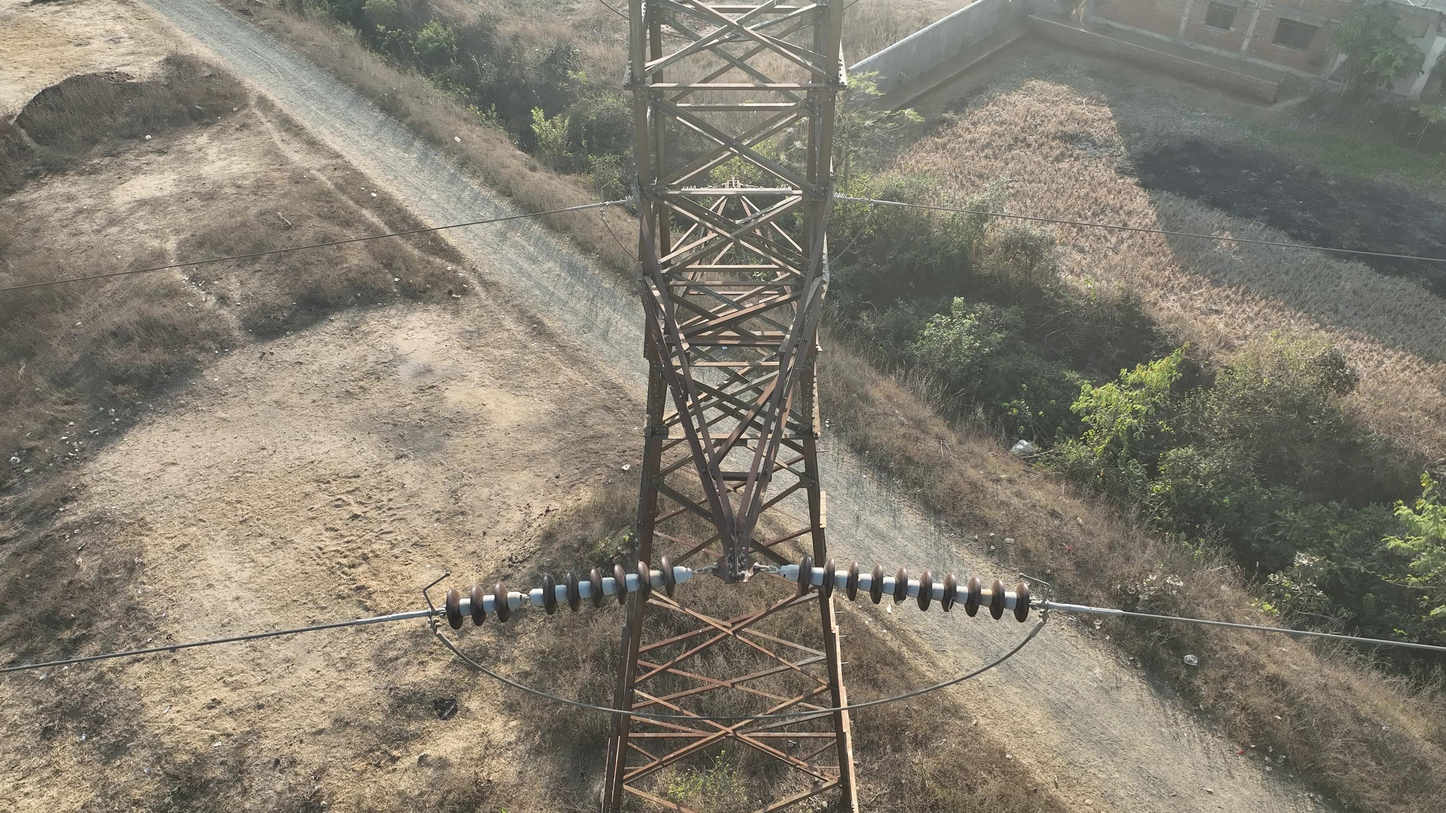broken_insulator: (937, 567, 963, 619), (893, 569, 909, 608)
